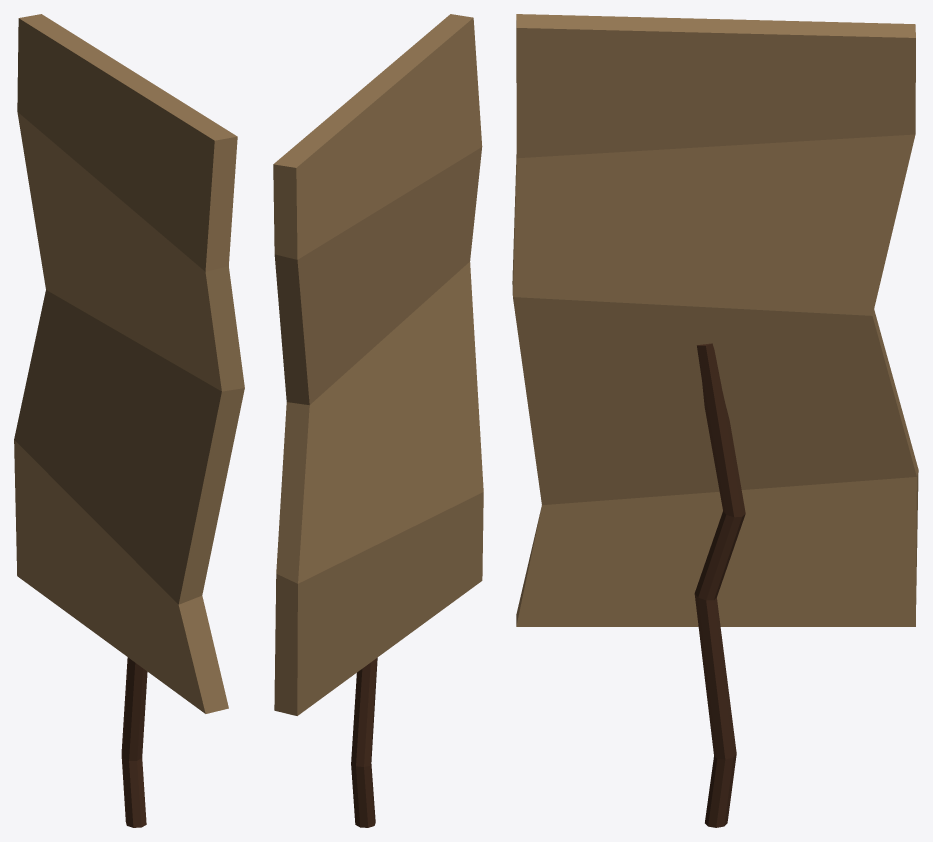
The model's file is targetboard.fbx.
3 renders of one model, left to right at view 1: azimuth 30°, elevation 25°; view 2: azimuth 150°, elevation 25°; view 3: azimuth 270°, elevation 25°, orthographic. The views are drawn at different scales.
Visible parts, largest first — view 1: Cube; view 2: Cube; view 3: Cube.
Boxes of the visible parts, left/top/right/bottom form: Cube: left=14, top=14, right=244, bottom=827; Cube: left=273, top=14, right=483, bottom=827; Cube: left=512, top=14, right=918, bottom=827.
Size of the model in its own units: 0.2188 by 3.05 by 1.4.
